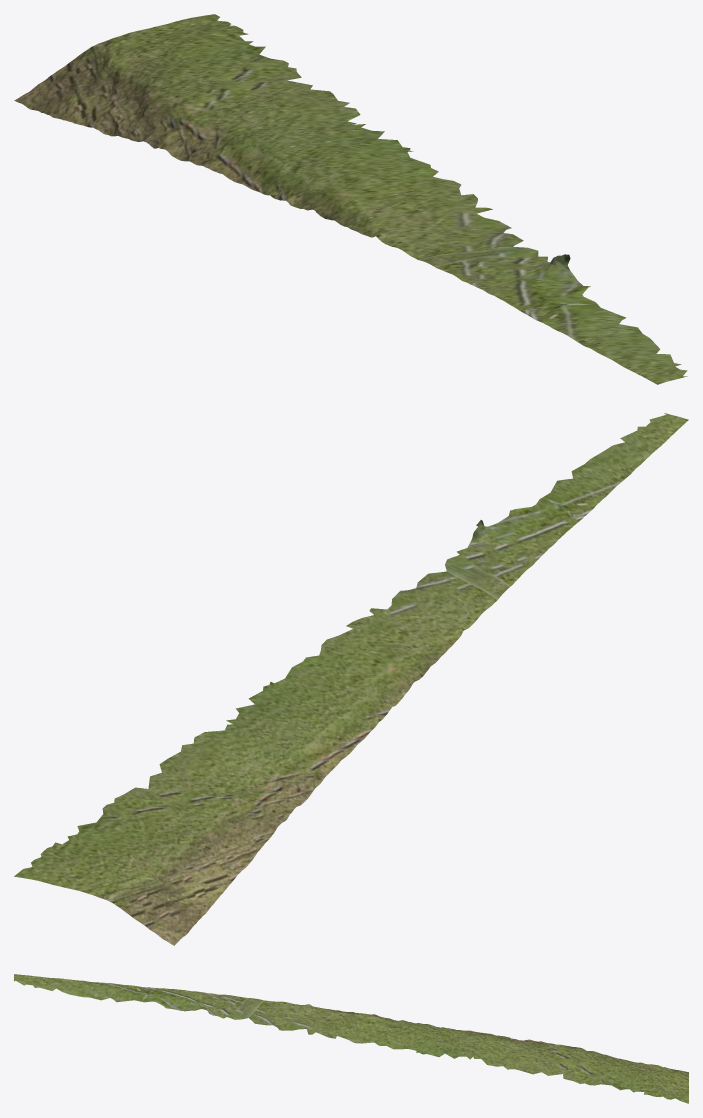
The picture shows the model from 3 angles, top to bottom: view 1: azimuth 30°, elevation 25°; view 2: azimuth 150°, elevation 25°; view 3: azimuth 270°, elevation 25°; orthographic projection. The views are drawn at different scales.
Bounding box in the file's own units: 1.82 × 1.63 × 10.11.
Materials: 1 (1 with a texture image).
